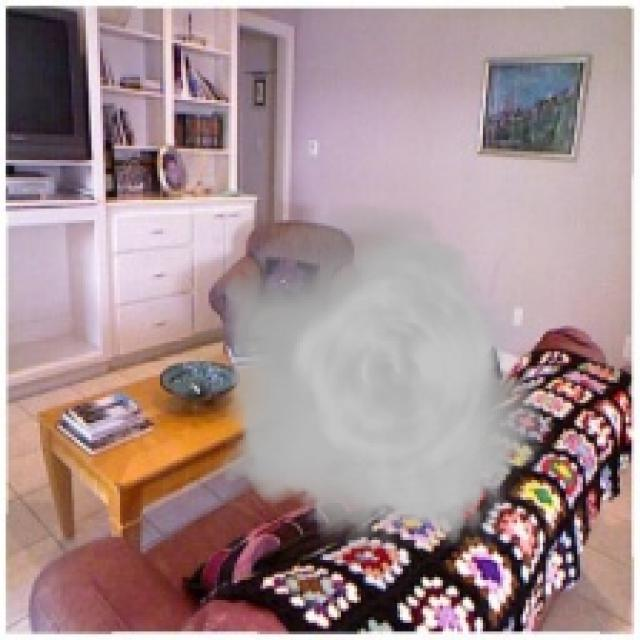Smoke: (206, 202, 554, 548)
